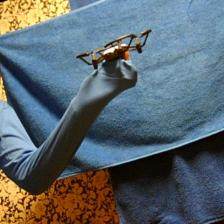drone: (75, 29, 153, 72)
